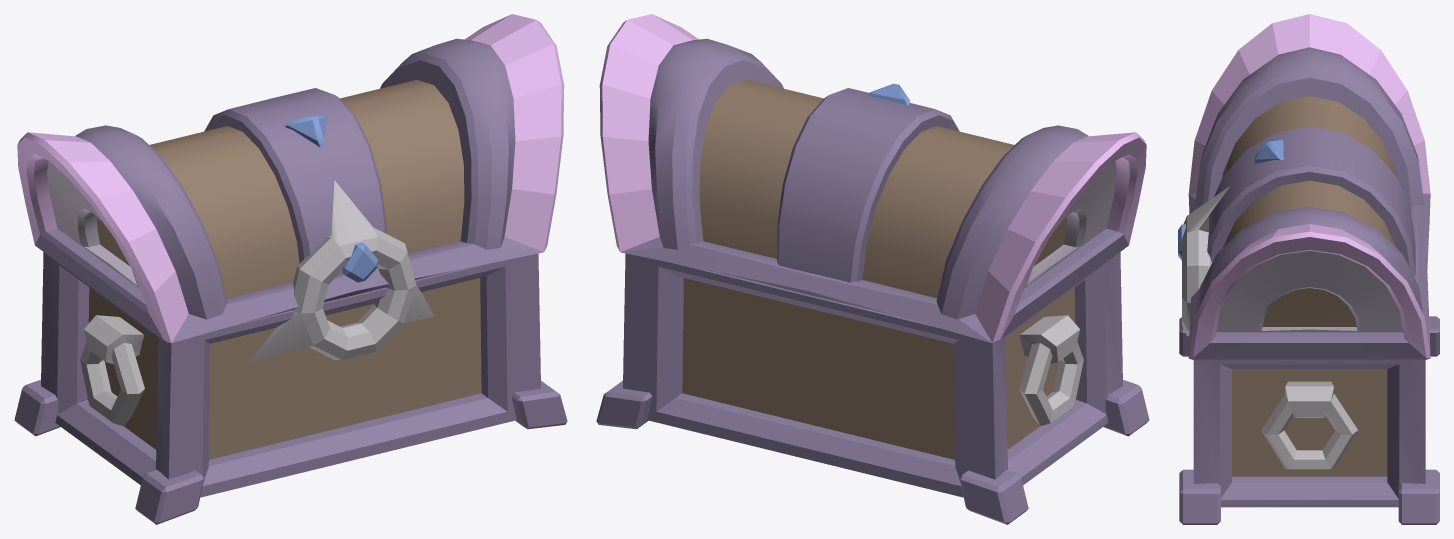
File: Crate.fbx
3 renders of one model, left to right at view 1: azimuth 30°, elevation 25°; view 2: azimuth 150°, elevation 25°; view 3: azimuth 270°, elevation 25°, orthographic. The views are drawn at different scales.
Parts seen in each view (by area): view 1: polySurface10; view 2: polySurface10; view 3: polySurface10.
Part boxes in pixels (box(x1,y1,x2,y2)): polySurface10: box(14, 14, 567, 524); polySurface10: box(596, 14, 1149, 524); polySurface10: box(1178, 14, 1439, 524).
Size of the model in its own units: 2.26 by 1.48 by 1.13.
